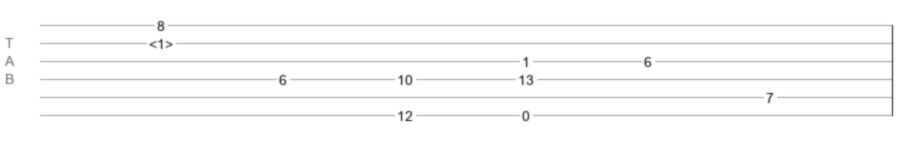0: (522, 108, 530, 118)
1: (522, 54, 530, 64)
10: (397, 72, 413, 82)
12: (397, 108, 413, 118)
13: (518, 72, 534, 82)
6: (279, 72, 287, 82), (644, 54, 652, 64)
7: (766, 90, 774, 100)
8: (157, 18, 165, 28)
harmonic: (149, 36, 173, 46)
